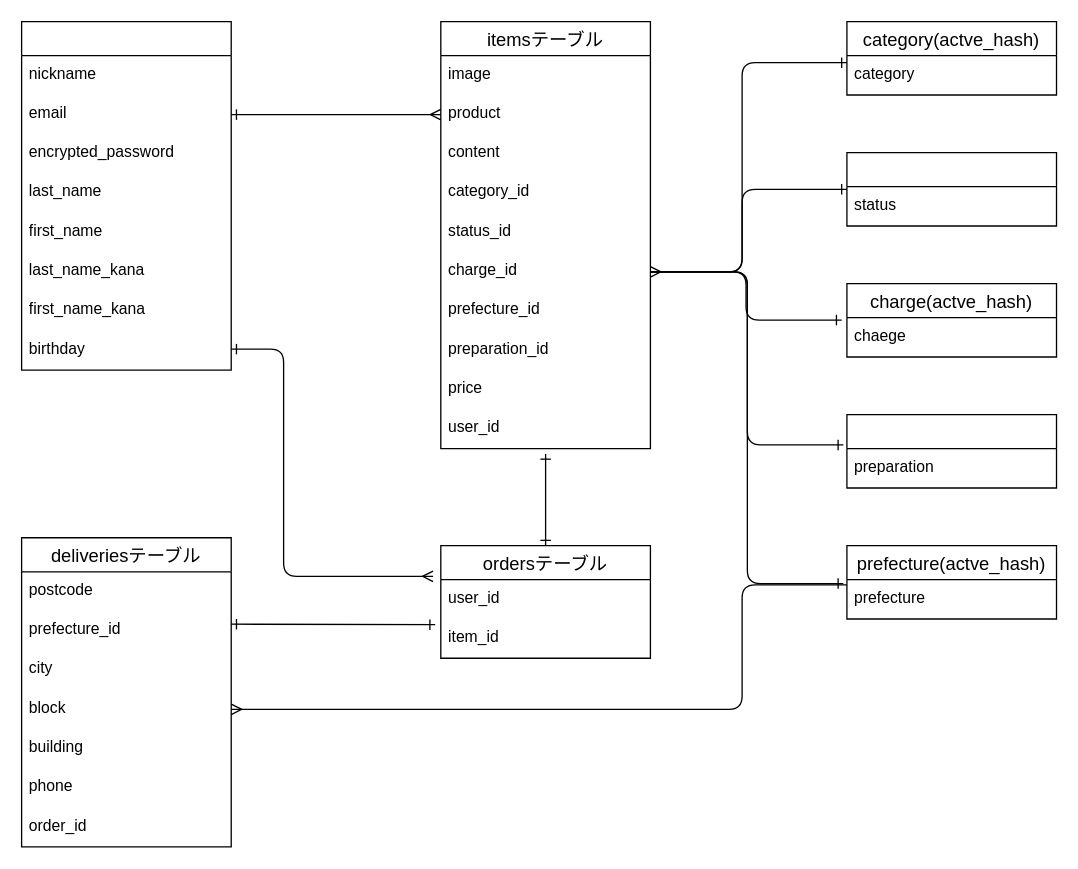
This 1078x869 diagram has some shape labels left out. The box of each missing label's shape, as (x1, y1, x2, y2) in pixels:
preparation(actve_hash): (846, 413, 1057, 488)
status(actve_hash): (846, 151, 1057, 226)
Usersテーブル: (20, 20, 231, 370)
